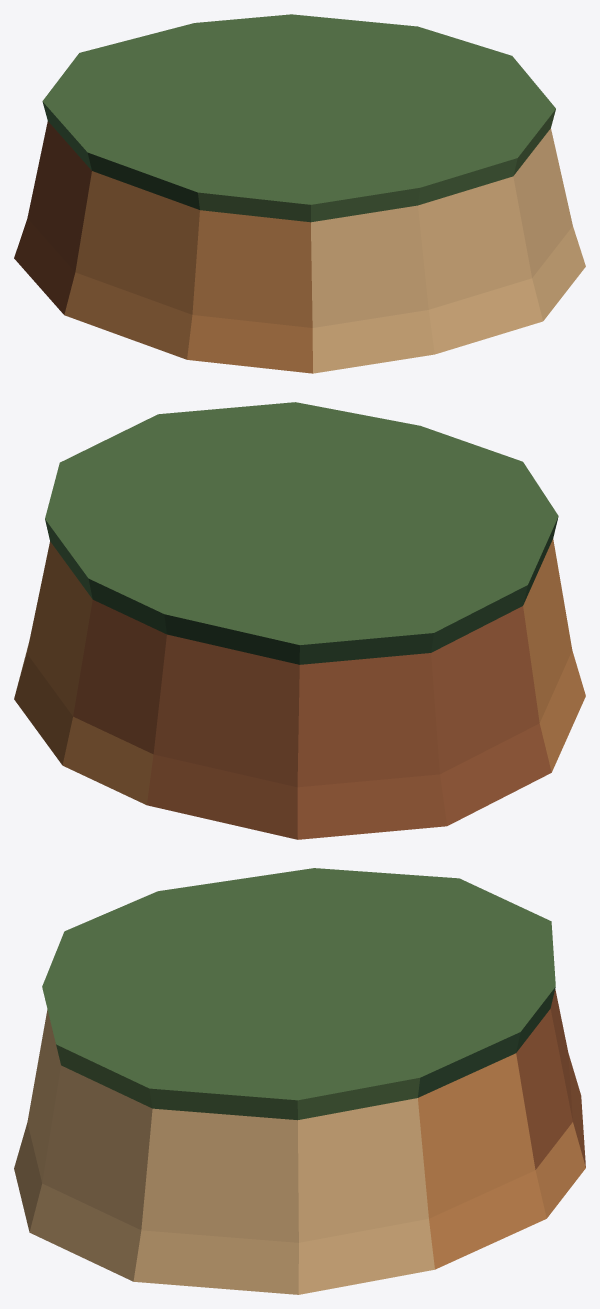
File: rock_largeB.glb
3 renders of one model, top to bottom at view 1: azimuth 30°, elevation 25°; view 2: azimuth 150°, elevation 25°; view 3: azimuth 270°, elevation 25°, orthographic. The views are drawn at different scales.
Visible parts, largest first — view 1: rock_largeB.002; view 2: rock_largeB.002; view 3: rock_largeB.002.
Part boxes in pixels (x1=…): rock_largeB.002: x1=14, y1=14, x2=585, y2=373; rock_largeB.002: x1=14, y1=402, x2=585, y2=839; rock_largeB.002: x1=14, y1=868, x2=585, y2=1294.
Size of the model in its own units: 2.4 by 0.7812 by 2.24.
